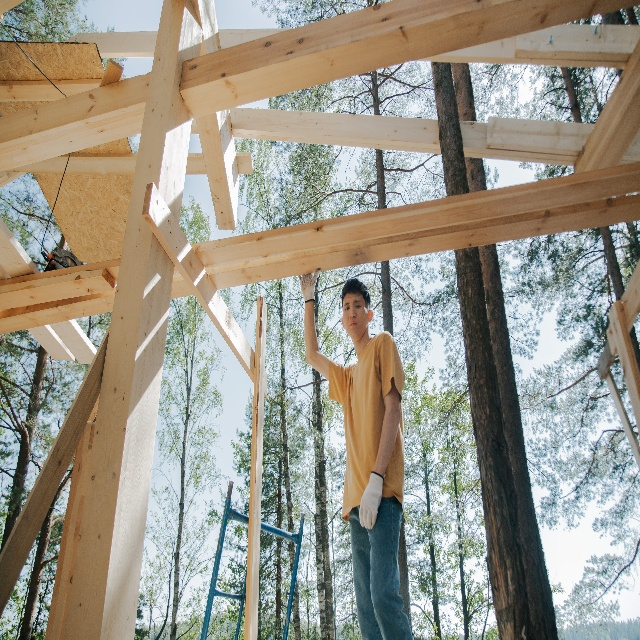Guantes: (359, 472, 382, 529), (299, 266, 321, 304)
